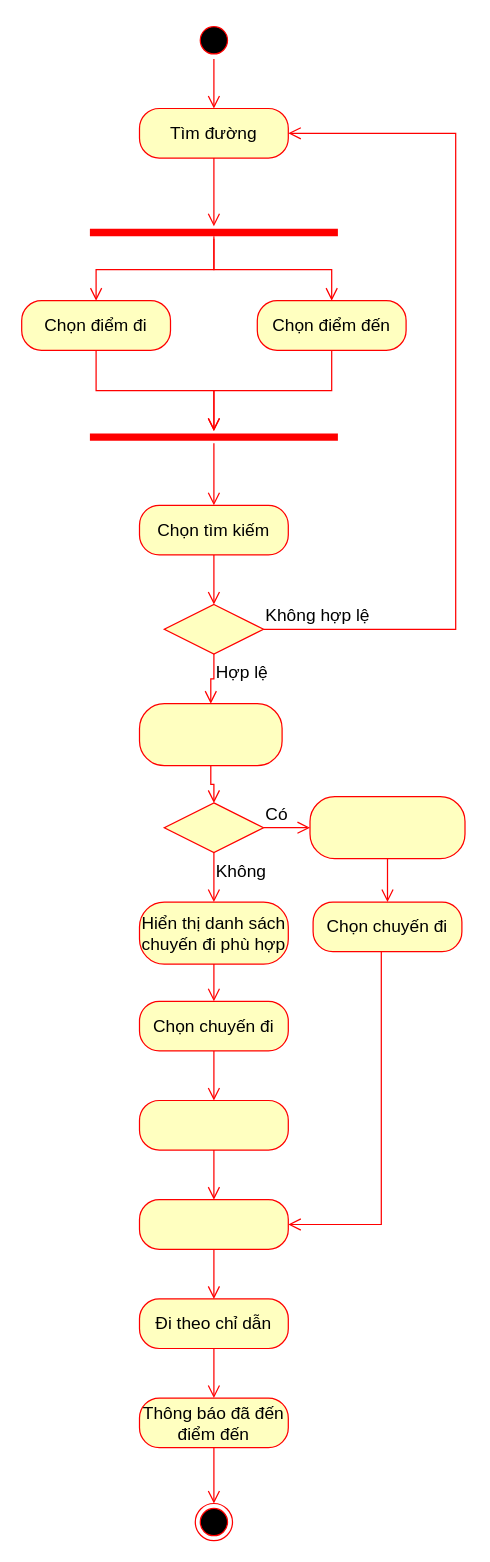
This 490x1562 diagram has some shape labels left out. Each missing label, with the centre of its shape:
"Hiển thị các phương tiện đã thuê" goes at point 387,827.
"Kiểm tra danh sách phương tiện đã thuê" goes at point 210,734.
"Theo dõi phương tiện đã thuê" goes at point 213,1223.
"Thêm vào lịch sử" goes at point 213,1124.
